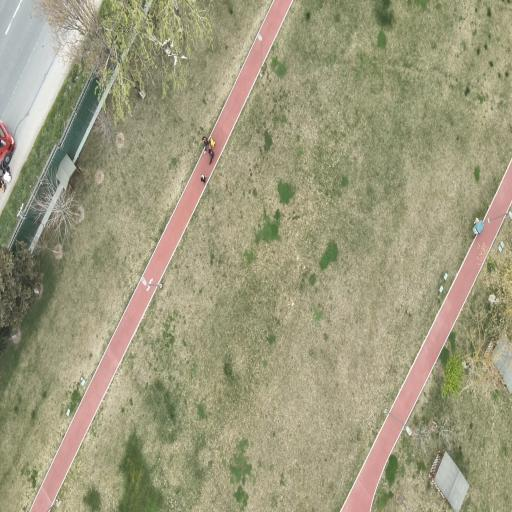car: (0, 121, 15, 168)
person: (203, 136, 208, 154), (208, 136, 215, 148), (209, 149, 214, 164), (0, 179, 5, 192), (201, 174, 206, 183)
